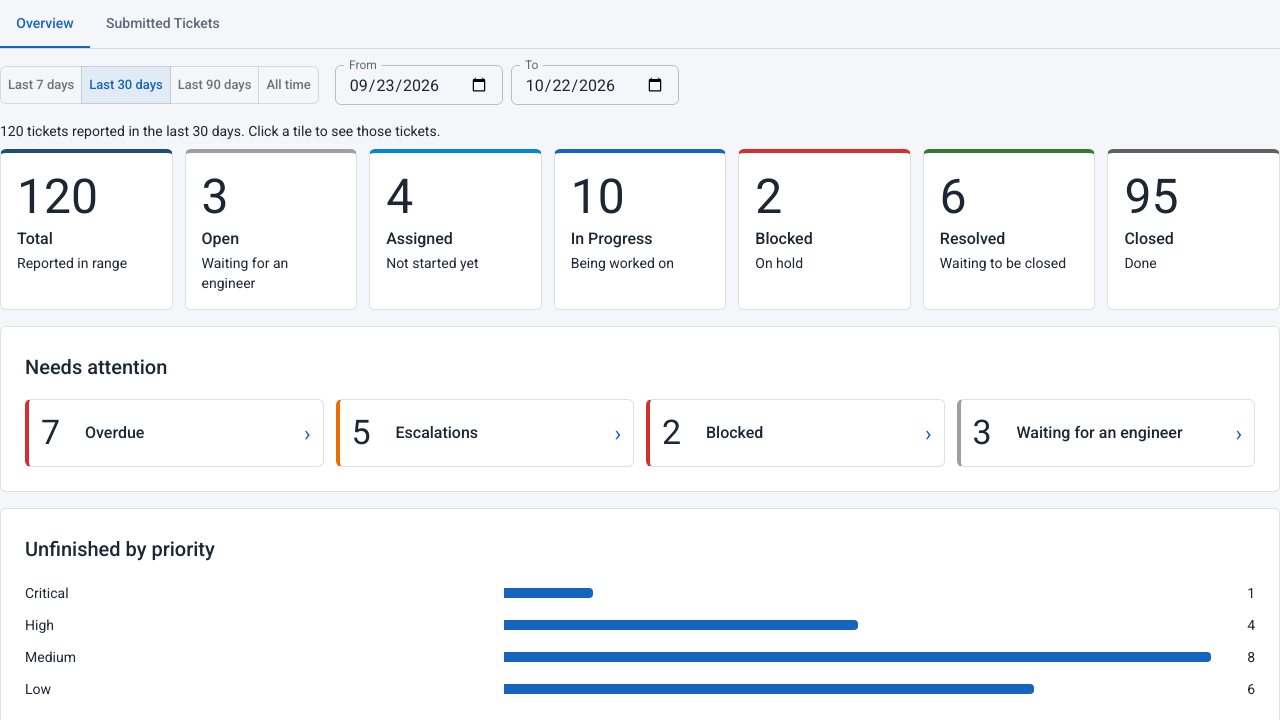
Test: AdminDashboard › the Submitted Tickets tab shows the admin's own tickets
Click the tab "Submitted Tickets".
click(163, 24)  # box top-left (90, 0), bottom-right (236, 48)
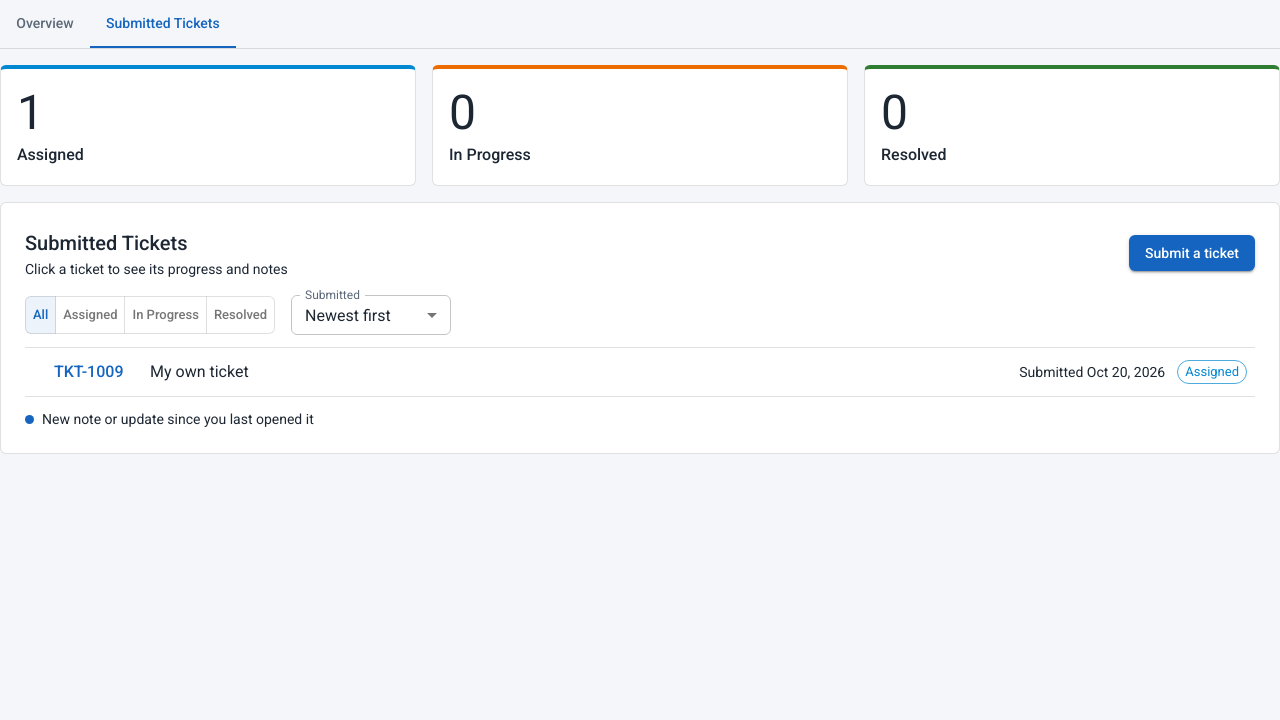
Expected: the text "My own ticket" is shown, top-left (150, 362), bottom-right (249, 381)
Expected: the button "Submit a ticket" is shown, top-left (1129, 235), bottom-right (1255, 271)
